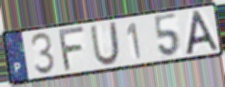1: (126, 21, 143, 61)
3: (30, 31, 57, 75)
5: (152, 11, 183, 60)
A: (184, 8, 221, 56)
F: (57, 24, 87, 74)
U: (89, 20, 122, 67)
